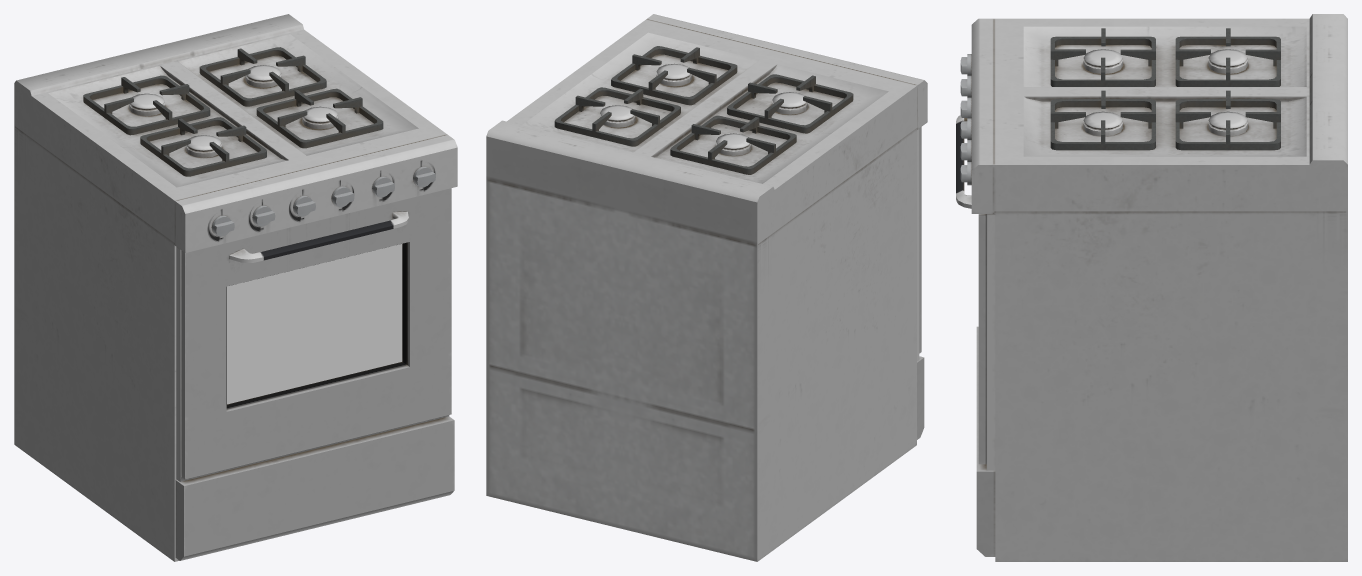
Rendered from kitchen.fbx.
3 views of the same model, side by side, from view 1: azimuth 30°, elevation 25°; view 2: azimuth 150°, elevation 25°; view 3: azimuth 270°, elevation 25° (orthographic). The views are drawn at different scales.
Visible parts, largest first — view 1: Oven_A; view 2: Oven_A; view 3: Oven_A.
Boxes of the visible parts, box(x1,y1,x2,y2) form: Oven_A: box(14, 14, 457, 561); Oven_A: box(486, 14, 927, 561); Oven_A: box(956, 14, 1347, 561).
Size of the model in its own units: 74.46 by 96.74 by 84.32.
